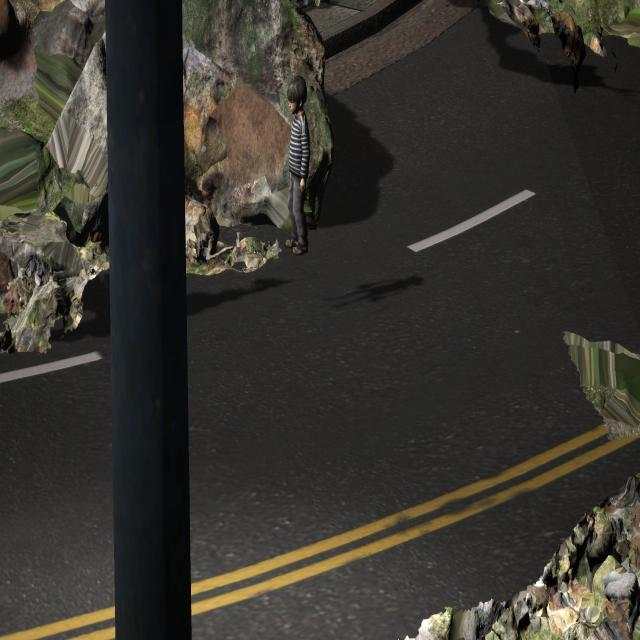Human: (277, 65, 314, 258)
